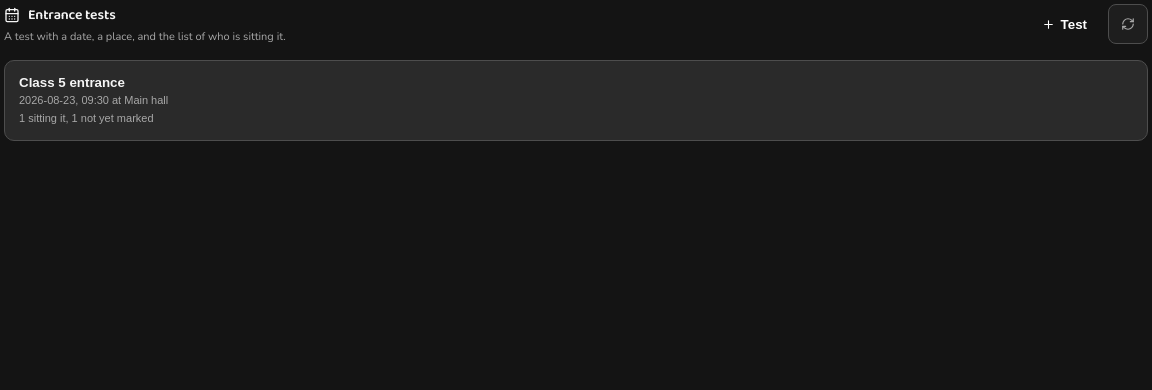
Test: a mark the application refuses is reported, not left looking saved
Click the text "Class 5 entrance": (72, 82) [19,75,125,90]
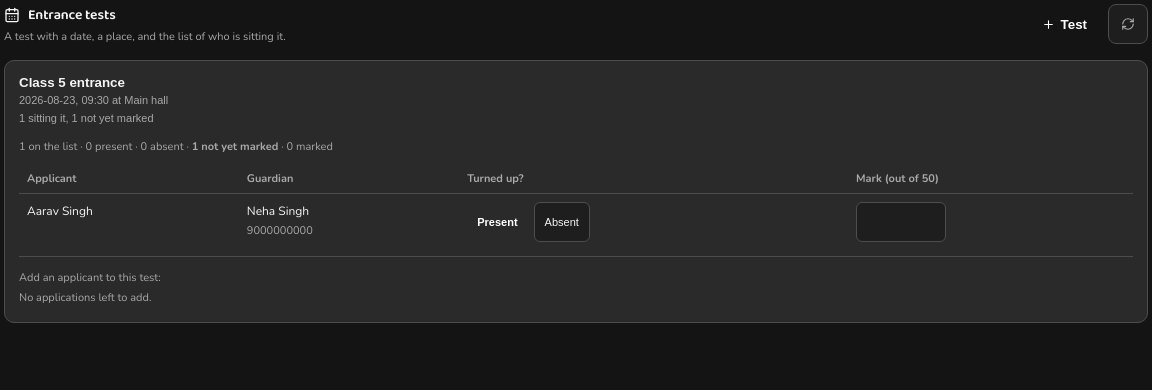
Leave the number field named "Mark for Aarav Singh", box [856,202,946,242]
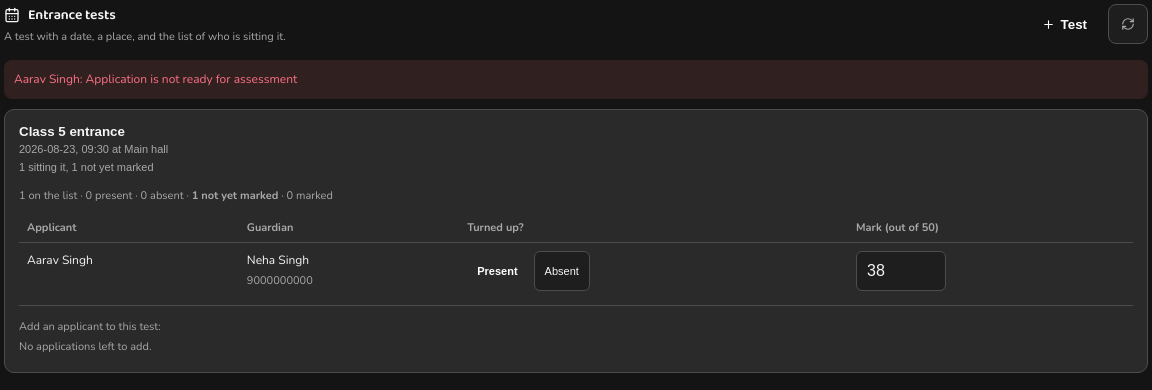
Expected: the message shows "Aarav Singh", [14,71,297,87]
Expected: the message shows "not ready for assessment", [14,71,297,87]
